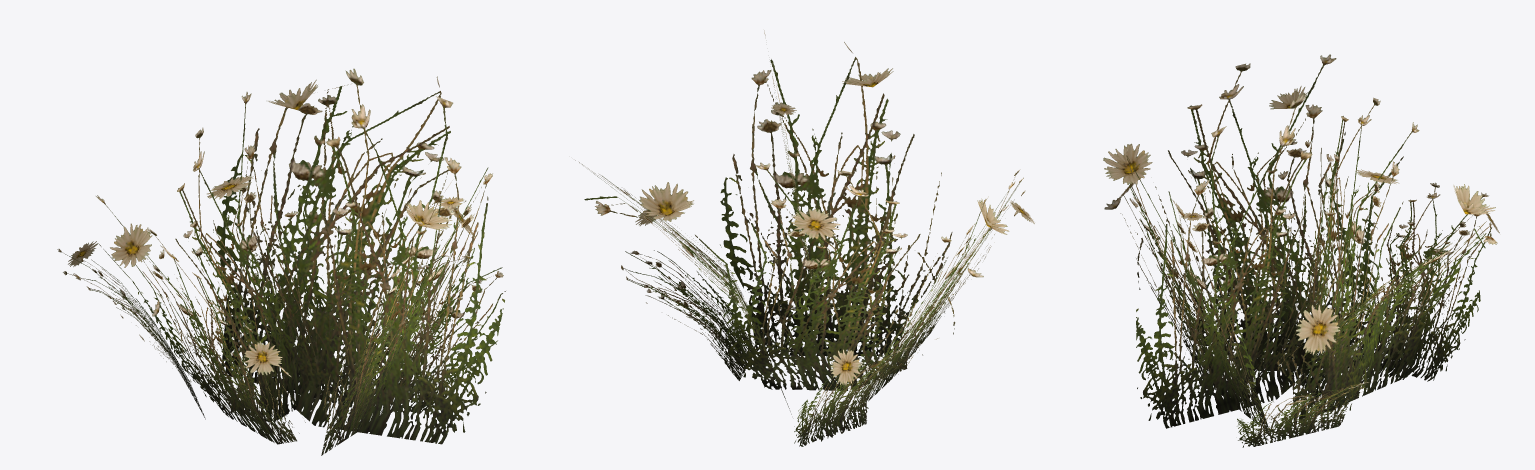
The model's file is p_jz_hua01.FBX.
The picture shows the model from 3 angles, left to right: view 1: azimuth 30°, elevation 25°; view 2: azimuth 150°, elevation 25°; view 3: azimuth 270°, elevation 25°; orthographic projection. The views are drawn at different scales.
Visible parts, largest first — view 1: p_jz_hua01; view 2: p_jz_hua01; view 3: p_jz_hua01.
Part boxes in pixels (x1,y1,x2,y2): p_jz_hua01: (57, 68, 505, 455); p_jz_hua01: (575, 30, 1034, 446); p_jz_hua01: (1103, 54, 1499, 447).
Size of the model in its own units: 1.74 by 1.4 by 1.59.
